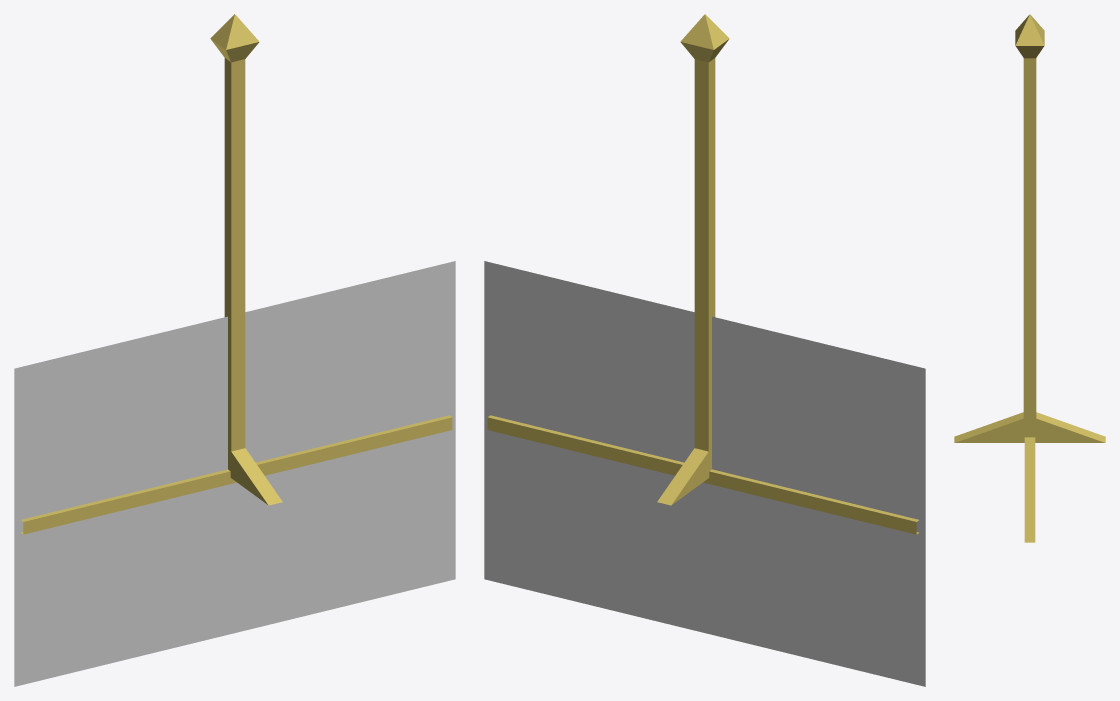
The model's file is 4478wall_r.gltf.
The picture shows the model from 3 angles, left to right: view 1: azimuth 30°, elevation 25°; view 2: azimuth 150°, elevation 25°; view 3: azimuth 270°, elevation 25°; orthographic projection. The views are drawn at different scales.
Parts seen in each view (by area): view 1: 4478wall_r; view 2: 4478wall_r; view 3: 4478wall_r.
Boxes of the visible parts, x1,y1,x2,y2 form: 4478wall_r: (14, 14, 455, 686); 4478wall_r: (484, 14, 925, 686); 4478wall_r: (954, 14, 1105, 542).
Bounding box in the file's own units: 1.83 × 2.45 × 0.5869.
